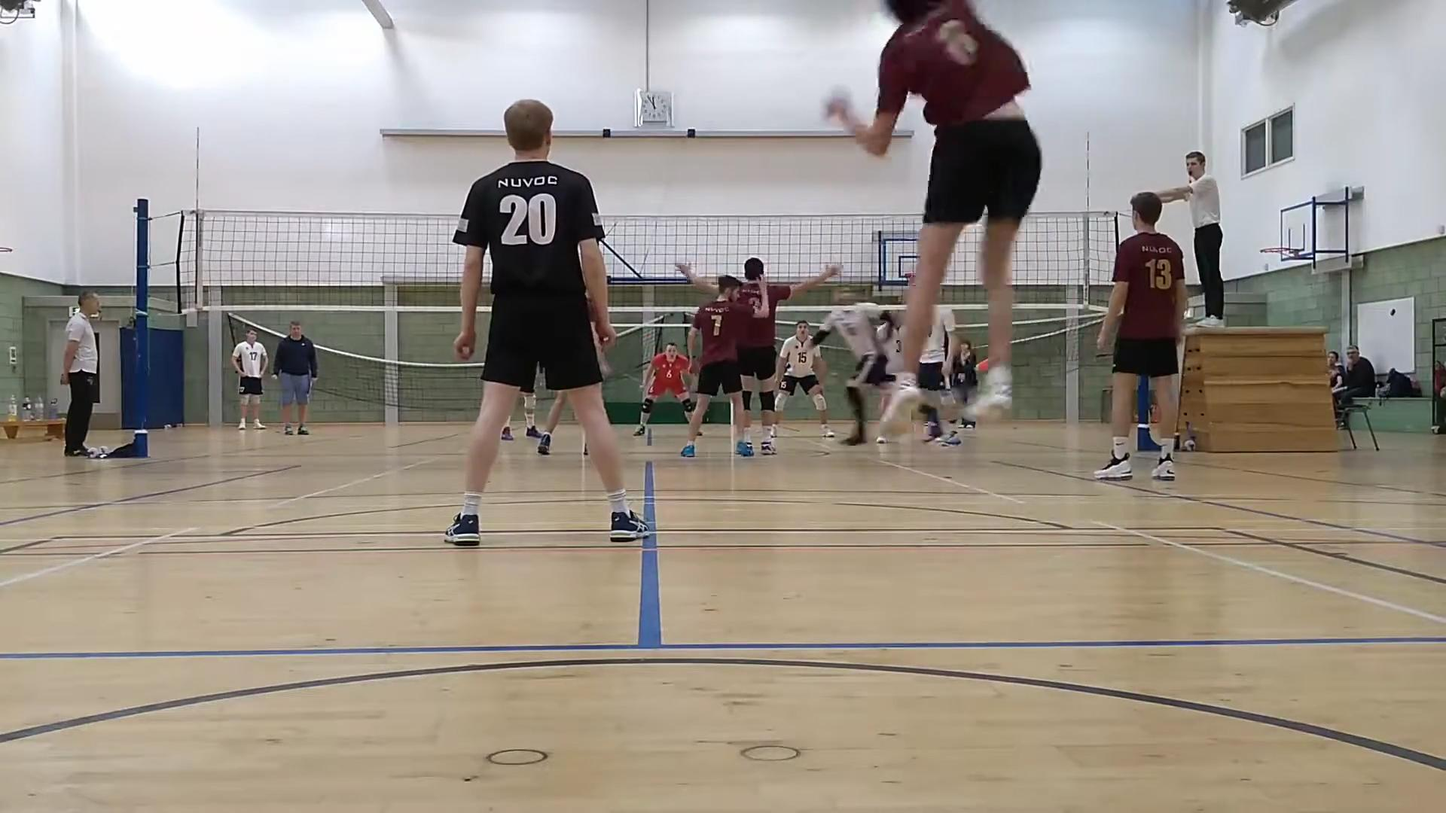battuta: (818, 0, 1044, 445)
